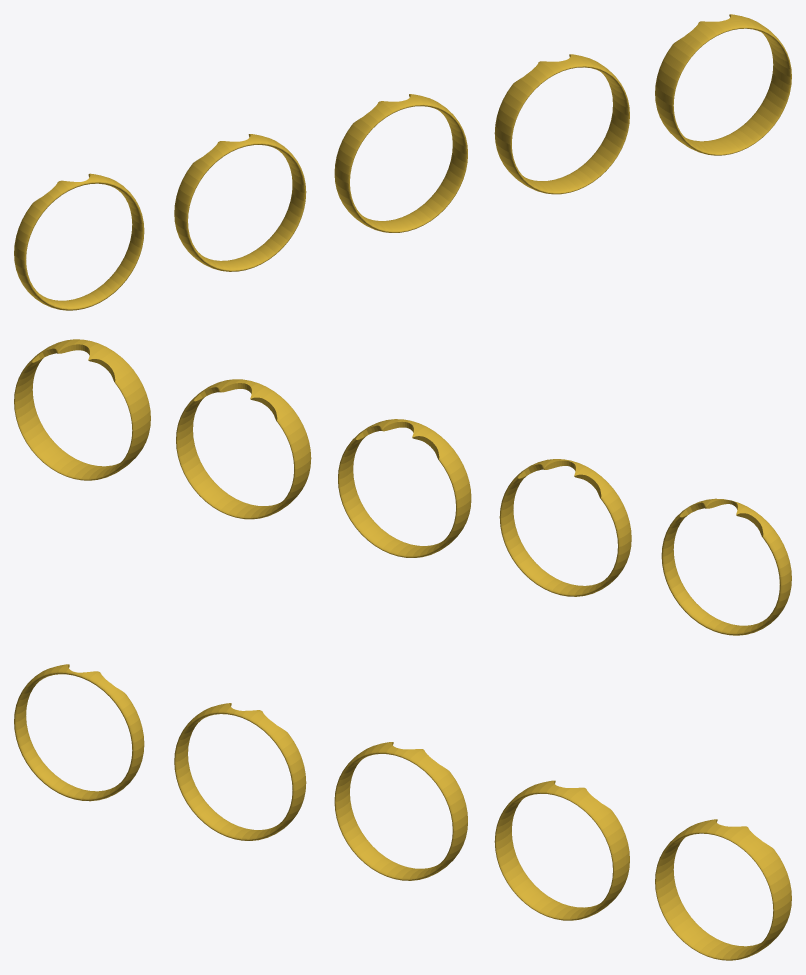
Rendered from all-bands.glb.
3 renders of one model, top to bottom at view 1: azimuth 30°, elevation 25°; view 2: azimuth 150°, elevation 25°; view 3: azimuth 330°, elevation 25°, orthographic.
Parts seen in each view (by area): view 1: band_5.0mm, band_4.5mm, band_4.0mm, band_3.5mm, band_3.0mm; view 2: band_5.0mm, band_4.5mm, band_4.0mm, band_3.5mm, band_3.0mm; view 3: band_5.0mm, band_4.5mm, band_4.0mm, band_3.5mm, band_3.0mm.
Boxes of the visible parts, bbox=[...] form: band_5.0mm: bbox=[655, 14, 791, 155]; band_4.5mm: bbox=[494, 54, 629, 194]; band_4.0mm: bbox=[334, 94, 467, 232]; band_3.5mm: bbox=[174, 134, 306, 271]; band_3.0mm: bbox=[14, 173, 144, 310]; band_5.0mm: bbox=[14, 339, 150, 480]; band_4.5mm: bbox=[176, 379, 311, 519]; band_4.0mm: bbox=[338, 419, 471, 557]; band_3.5mm: bbox=[499, 459, 631, 596]; band_3.0mm: bbox=[661, 498, 791, 635]; band_5.0mm: bbox=[655, 819, 791, 960]; band_4.5mm: bbox=[494, 780, 629, 920]; band_4.0mm: bbox=[334, 742, 467, 880]; band_3.5mm: bbox=[174, 703, 306, 840]; band_3.0mm: bbox=[14, 664, 144, 801].
Size of the model in its own units: 124 by 20 by 5.
